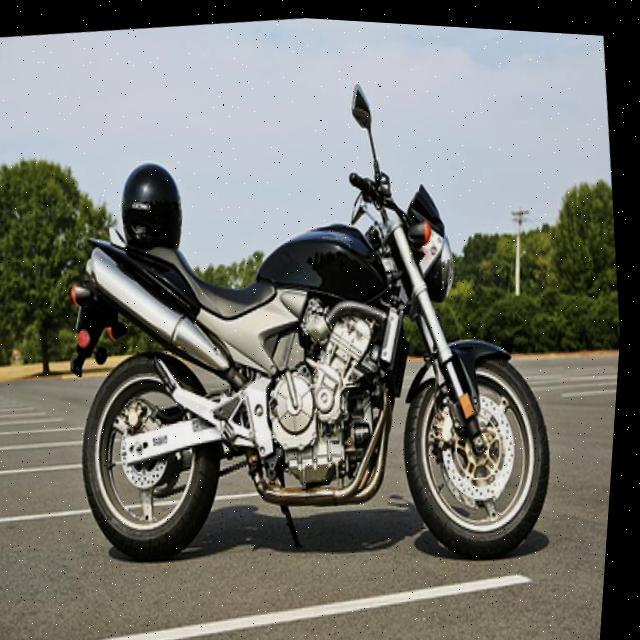motorcycle: (25, 40, 592, 605)
